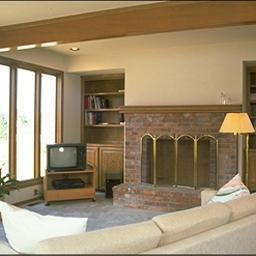Ventana: (4, 62, 62, 179)
